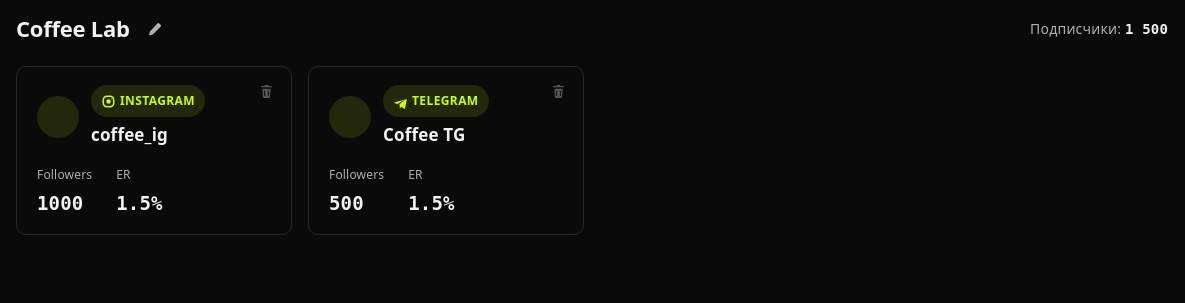
Test case: ProfilePage › joins several validation messages into one line
This screenshot has width=1185, height=303.
Click the button named "Переименовать". click: [154, 29]
box: [142,16,167,42]
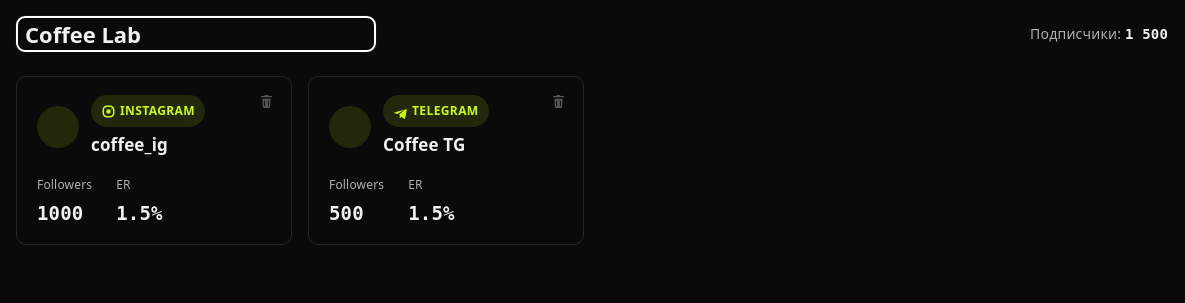
Replace the text in the field named "Название профиля" with "x". click: [196, 34]
box: [16,16,376,52]
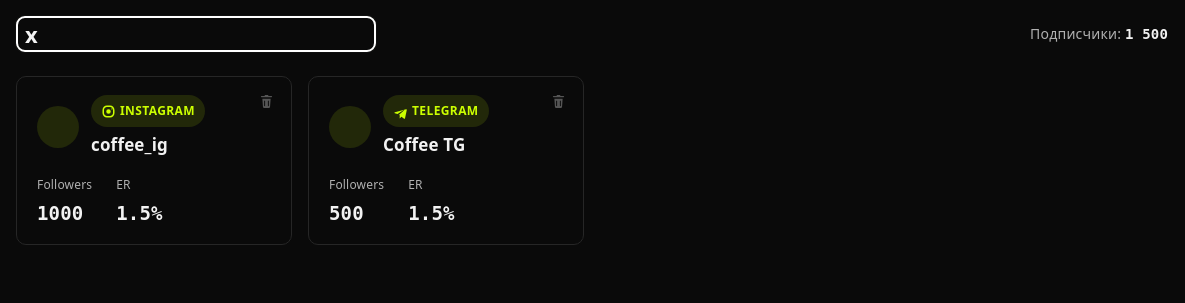
Press Enter in the field named "Название профиля", box [16,16,376,52]
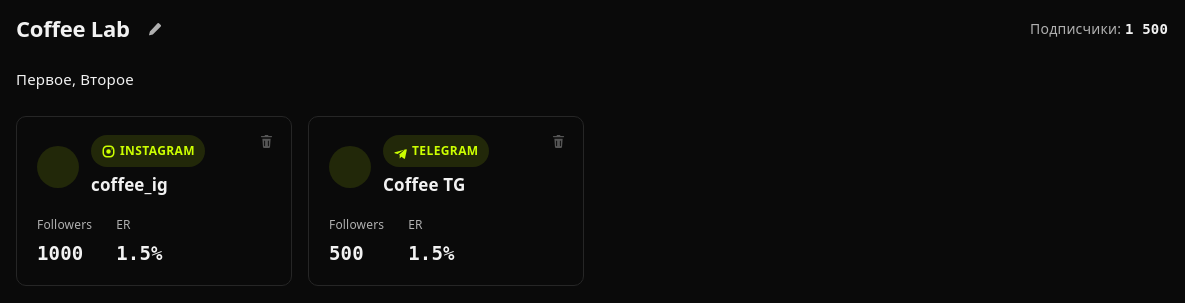
expect the message reads "Первое, Второе": met, box [16,69,134,89]
